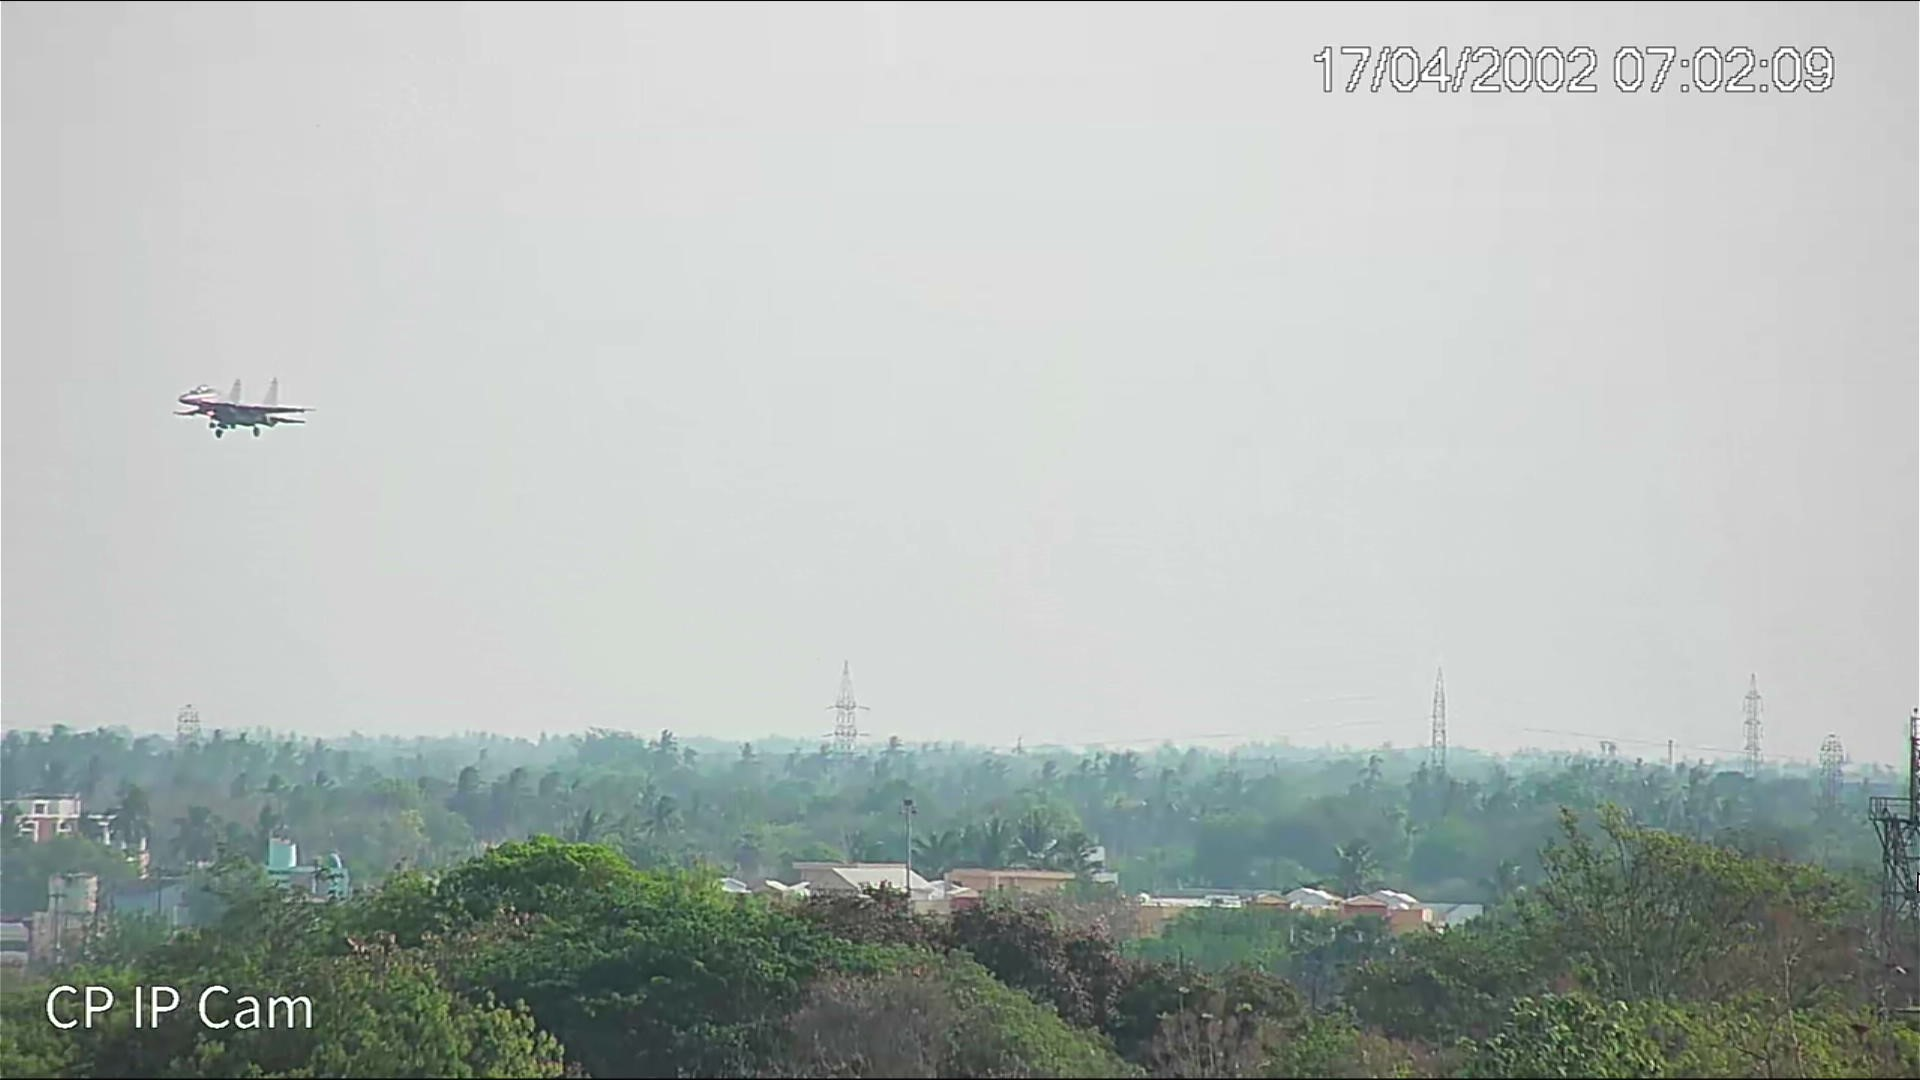SU_30: (175, 376, 320, 436)
